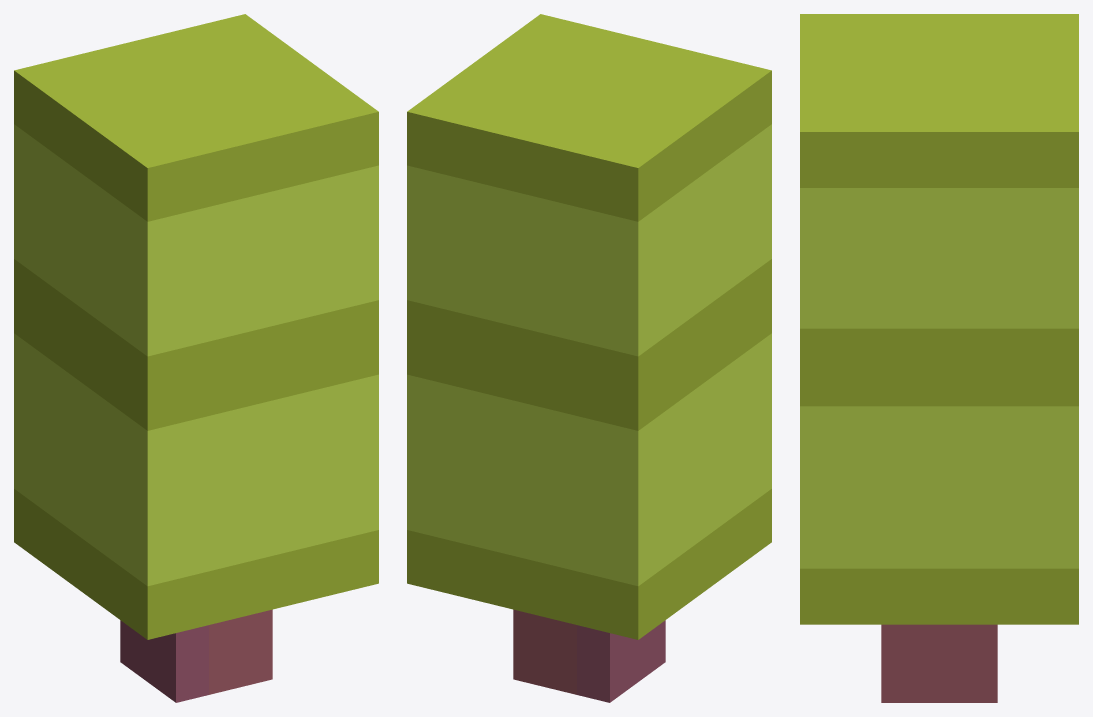
The model's file is Tree2.fbx.
The picture shows the model from 3 angles, left to right: view 1: azimuth 30°, elevation 25°; view 2: azimuth 150°, elevation 25°; view 3: azimuth 270°, elevation 25°; orthographic projection. The views are drawn at different scales.
Parts seen in each view (by area): view 1: Tree2; view 2: Tree2; view 3: Tree2.
Part boxes in pixels (box(x1,y1,x2,y2)): Tree2: box(14, 14, 378, 702); Tree2: box(407, 14, 771, 702); Tree2: box(800, 14, 1078, 702).
Size of the model in its own units: 0.6 by 1.44 by 0.6.
